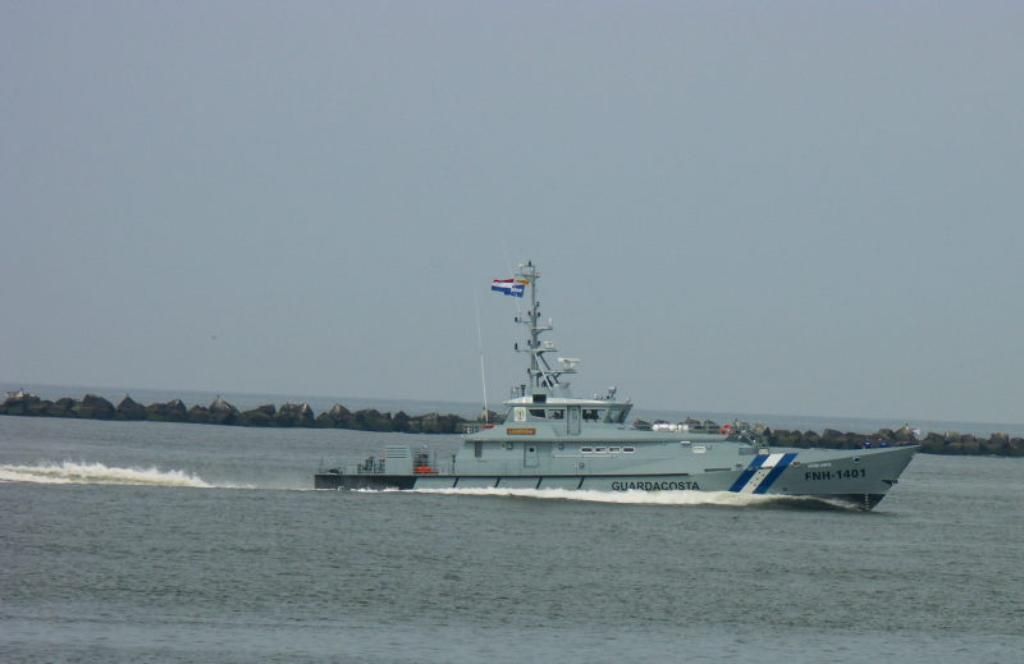Warship: (308, 242, 920, 514)
